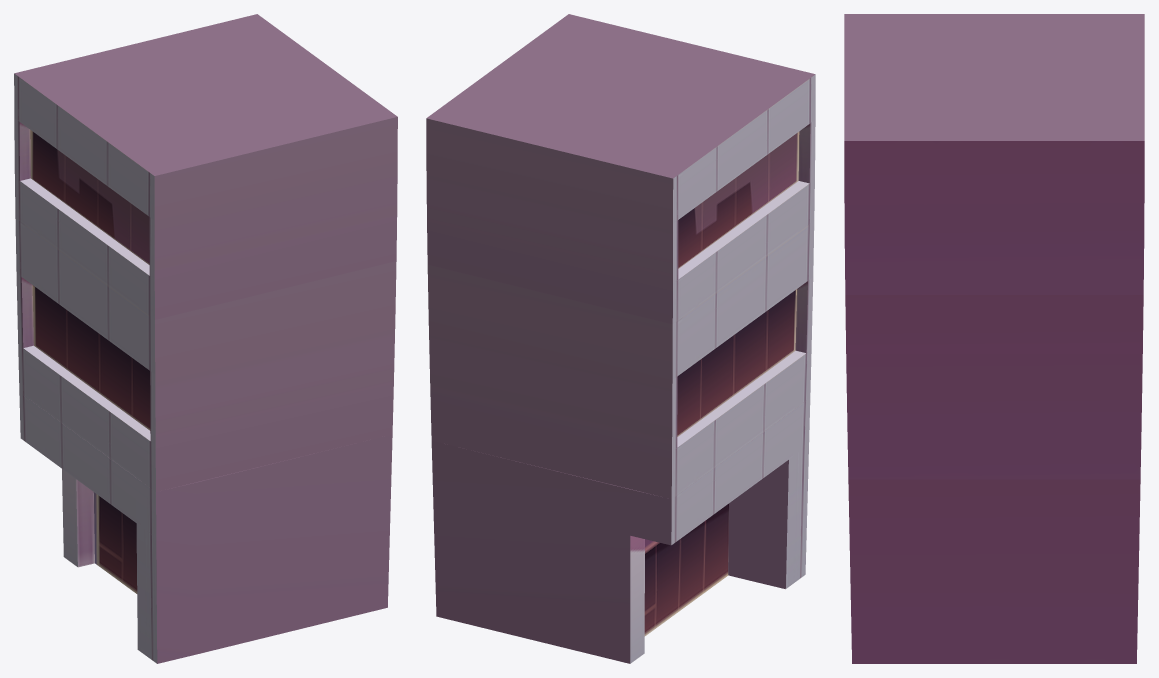
The model's file is city_mid_b.glb.
The picture shows the model from 3 angles, left to right: view 1: azimuth 30°, elevation 25°; view 2: azimuth 150°, elevation 25°; view 3: azimuth 270°, elevation 25°; orthographic projection. The views are drawn at different scales.
Visible parts, largest first — view 1: P00; view 2: P00; view 3: P00.
Boxes of the visible parts, box(x1,y1,x2,y2) form: P00: box(14, 14, 397, 663); P00: box(426, 14, 815, 663); P00: box(844, 14, 1144, 663).
Bounding box in the file's own units: 9.6 × 18.58 × 9.6.
1 material, 1 textured.
